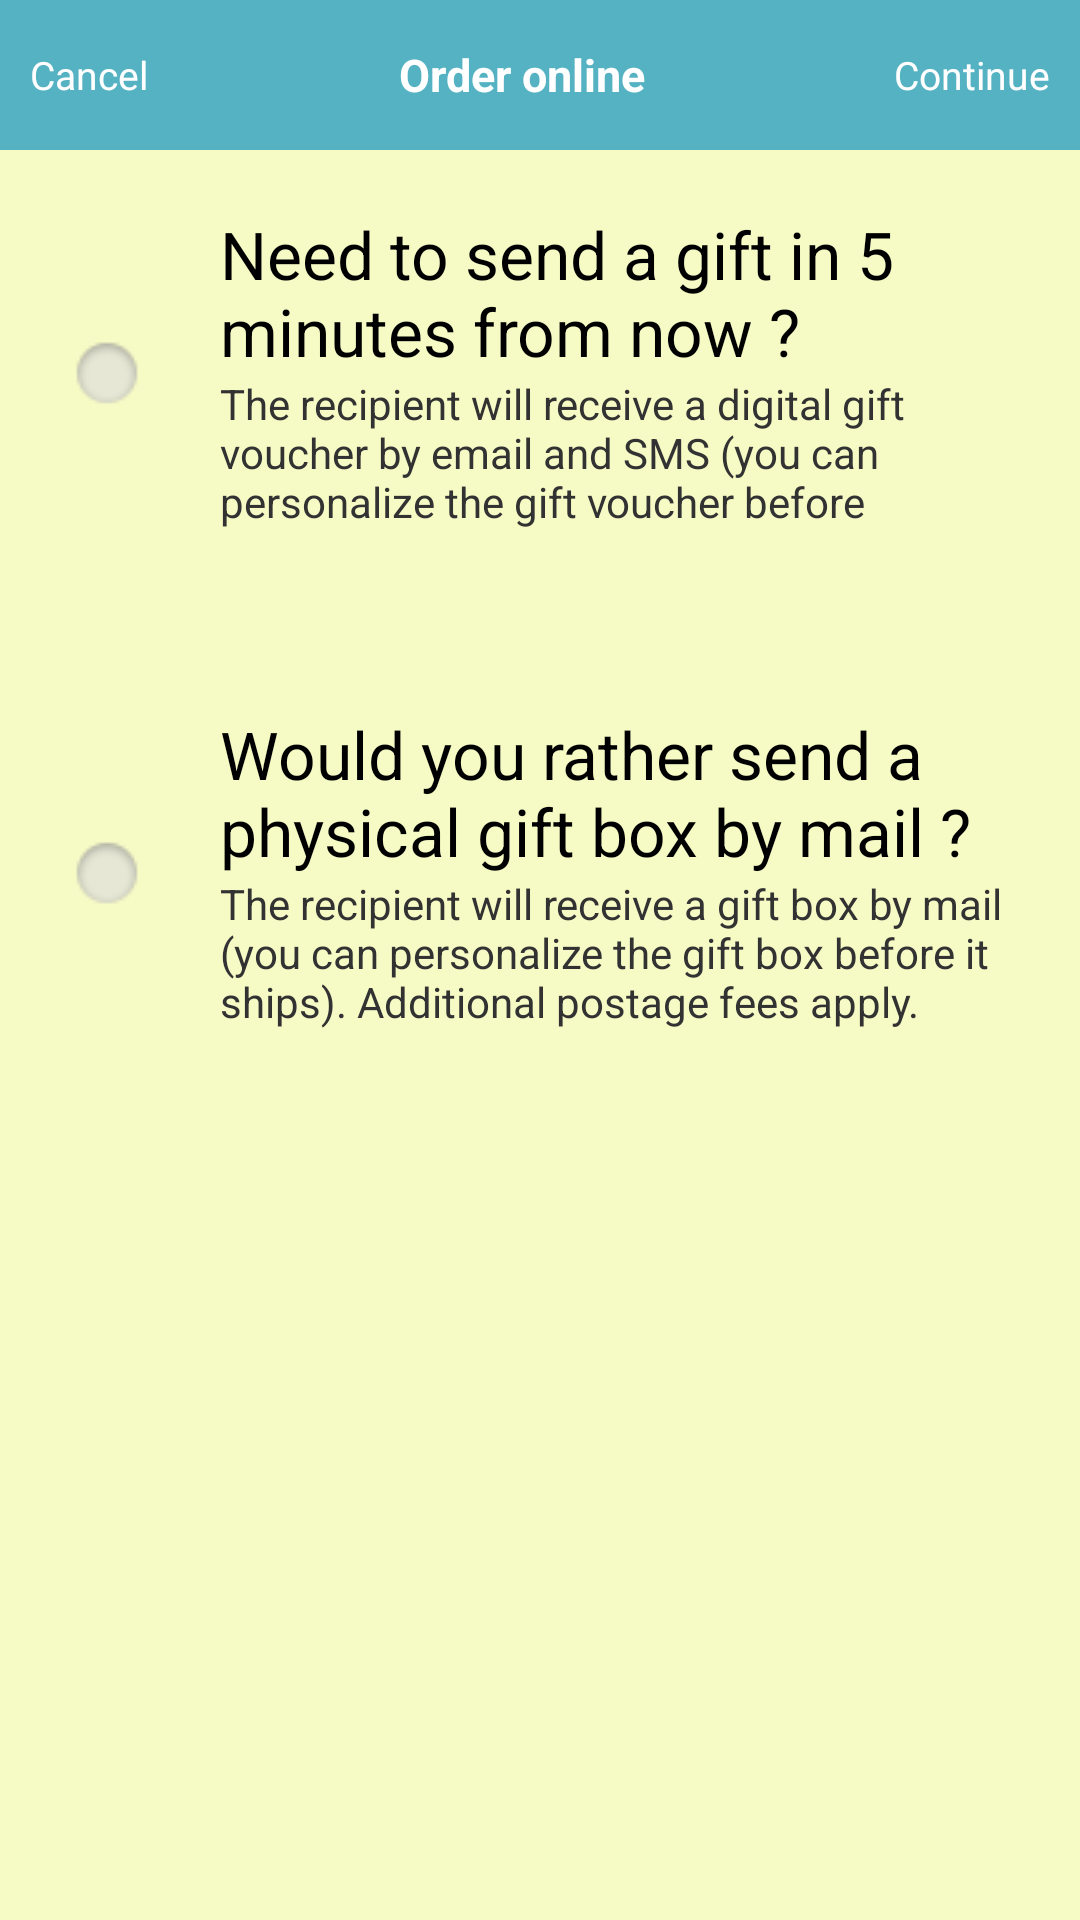

Where to tap for icons on this 1080×1920 app screen, as (x,y):
checkmark off: (107,373), (107,873)
